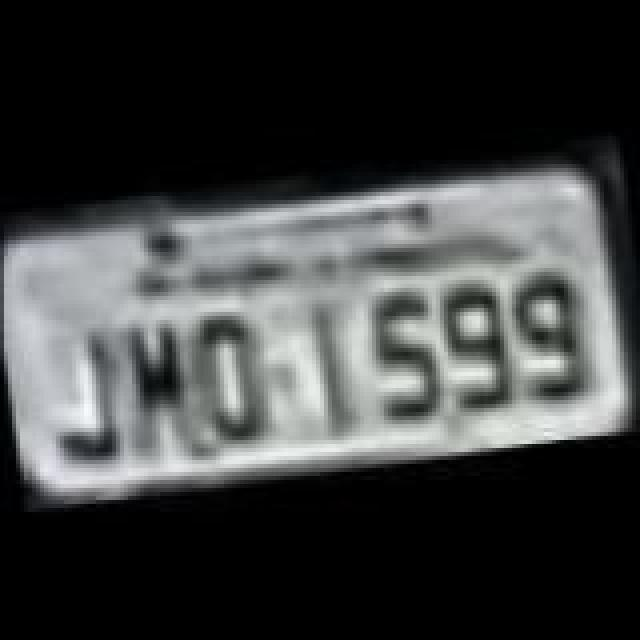1: (296, 294, 364, 430)
5: (356, 282, 448, 430)
9: (426, 274, 522, 422), (504, 262, 596, 410)
J: (38, 322, 130, 470)
M: (118, 310, 194, 462)
O: (184, 306, 268, 454)
